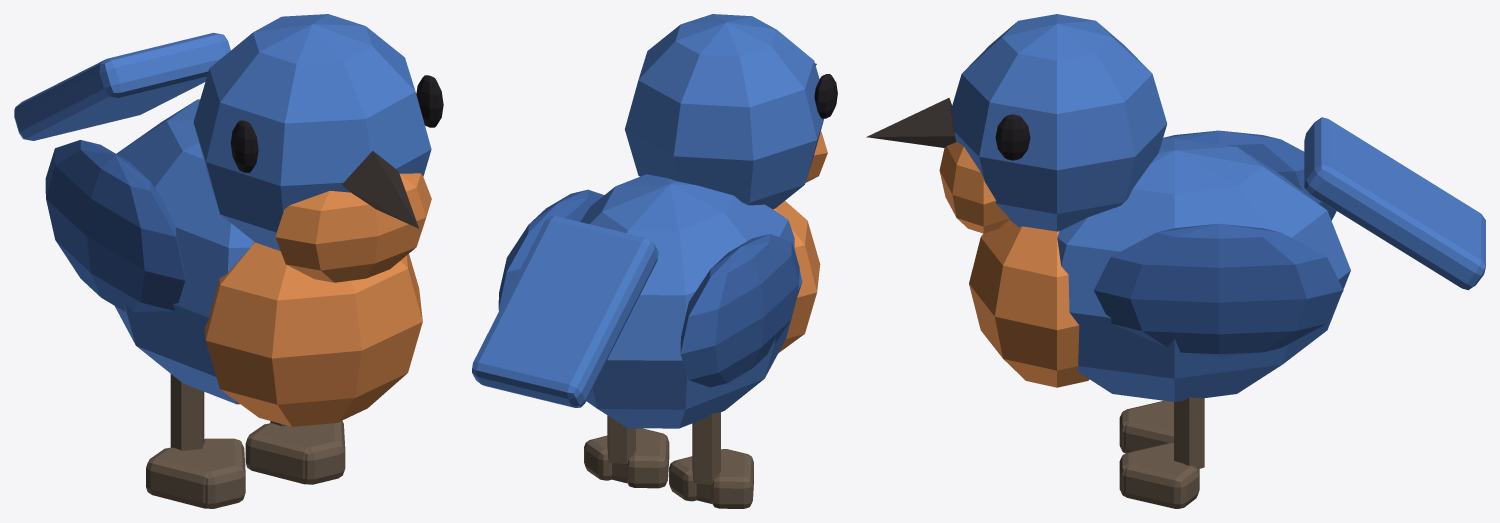
Rendered from bluebird.glb.
The picture shows the model from 3 angles, left to right: view 1: azimuth 30°, elevation 25°; view 2: azimuth 150°, elevation 25°; view 3: azimuth 270°, elevation 25°; orthographic projection. The views are drawn at different scales.
Parts seen in each view (by area): view 1: body_mesh, head_mesh, wing_r_mesh, leg_r_mesh, leg_l_mesh; view 2: body_mesh, head_mesh, wing_r_mesh, leg_r_mesh, leg_l_mesh, wing_l_mesh; view 3: body_mesh, head_mesh, wing_l_mesh, leg_l_mesh, wing_r_mesh, leg_r_mesh.
Boxes of the visible parts, x1,y1,x2,y2 form: body_mesh: (14,32,422,426); head_mesh: (193,14,443,282); wing_r_mesh: (45,140,185,311); leg_r_mesh: (146,374,245,508); leg_l_mesh: (245,420,345,484); body_mesh: (472,174,820,428); head_mesh: (624,14,837,209); wing_r_mesh: (680,234,799,387); leg_r_mesh: (669,412,753,508); leg_l_mesh: (584,415,669,488); wing_l_mesh: (498,189,604,310); body_mesh: (969,117,1485,401); head_mesh: (866,14,1167,233); wing_l_mesh: (1094,223,1343,356); leg_l_mesh: (1119,397,1204,508); wing_r_mesh: (1162,130,1336,220); leg_r_mesh: (1119,400,1173,453).
Bounding box in the file's own units: 0.19 × 0.335 × 0.4218.
